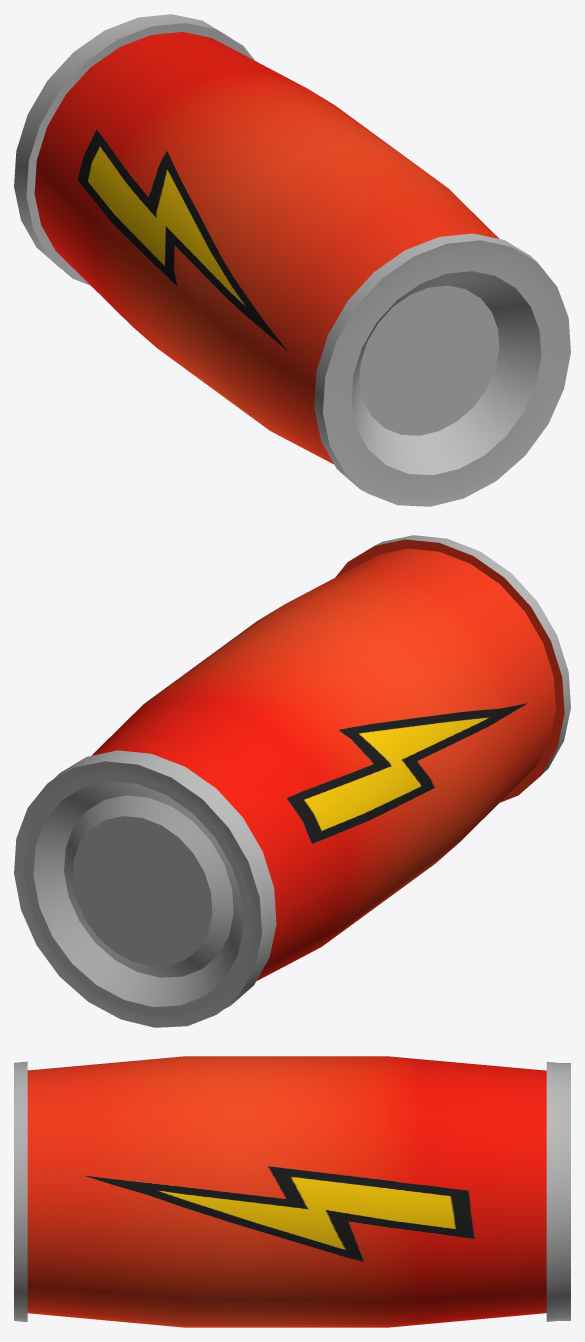
File: Energy Drink 1.fbx
The picture shows the model from 3 angles, top to bottom: view 1: azimuth 30°, elevation 25°; view 2: azimuth 150°, elevation 25°; view 3: azimuth 270°, elevation 25°; orthographic projection. The views are drawn at different scales.
Parts seen in each view (by area): view 1: Energy Drink; view 2: Energy Drink; view 3: Energy Drink.
Boxes of the visible parts, x1=… form: Energy Drink: x1=14, y1=14, x2=570, y2=506; Energy Drink: x1=14, y1=535, x2=570, y2=1027; Energy Drink: x1=14, y1=1056, x2=570, y2=1327.
Size of the model in its own units: 50.24 by 50.12 by 103.
